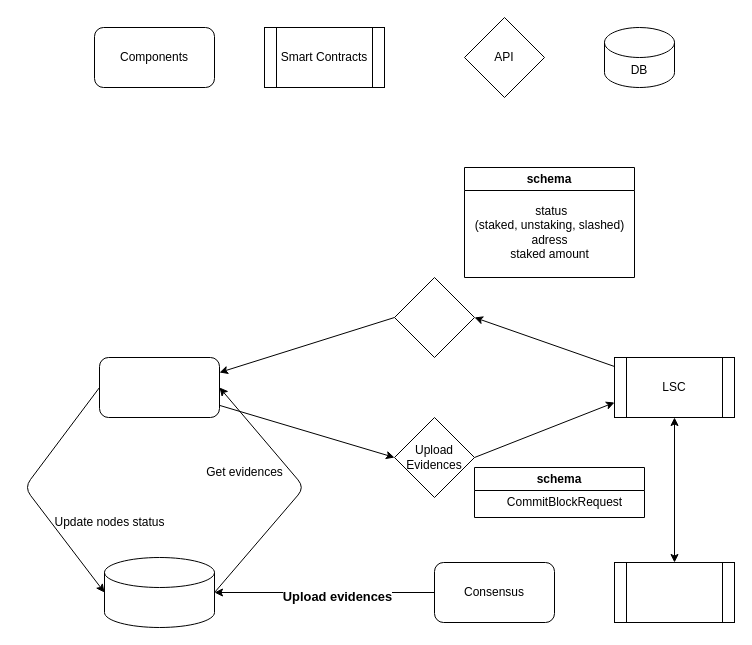
Some shapes in this 752 by 645 pixel diagram are drawn without their labels. Each missing label, with the centre of its shape:
Database: pixel 159 592
EigenLayer: pixel 674 592
Get Operator Status: pixel 434 317
Governance: pixel 159 387
